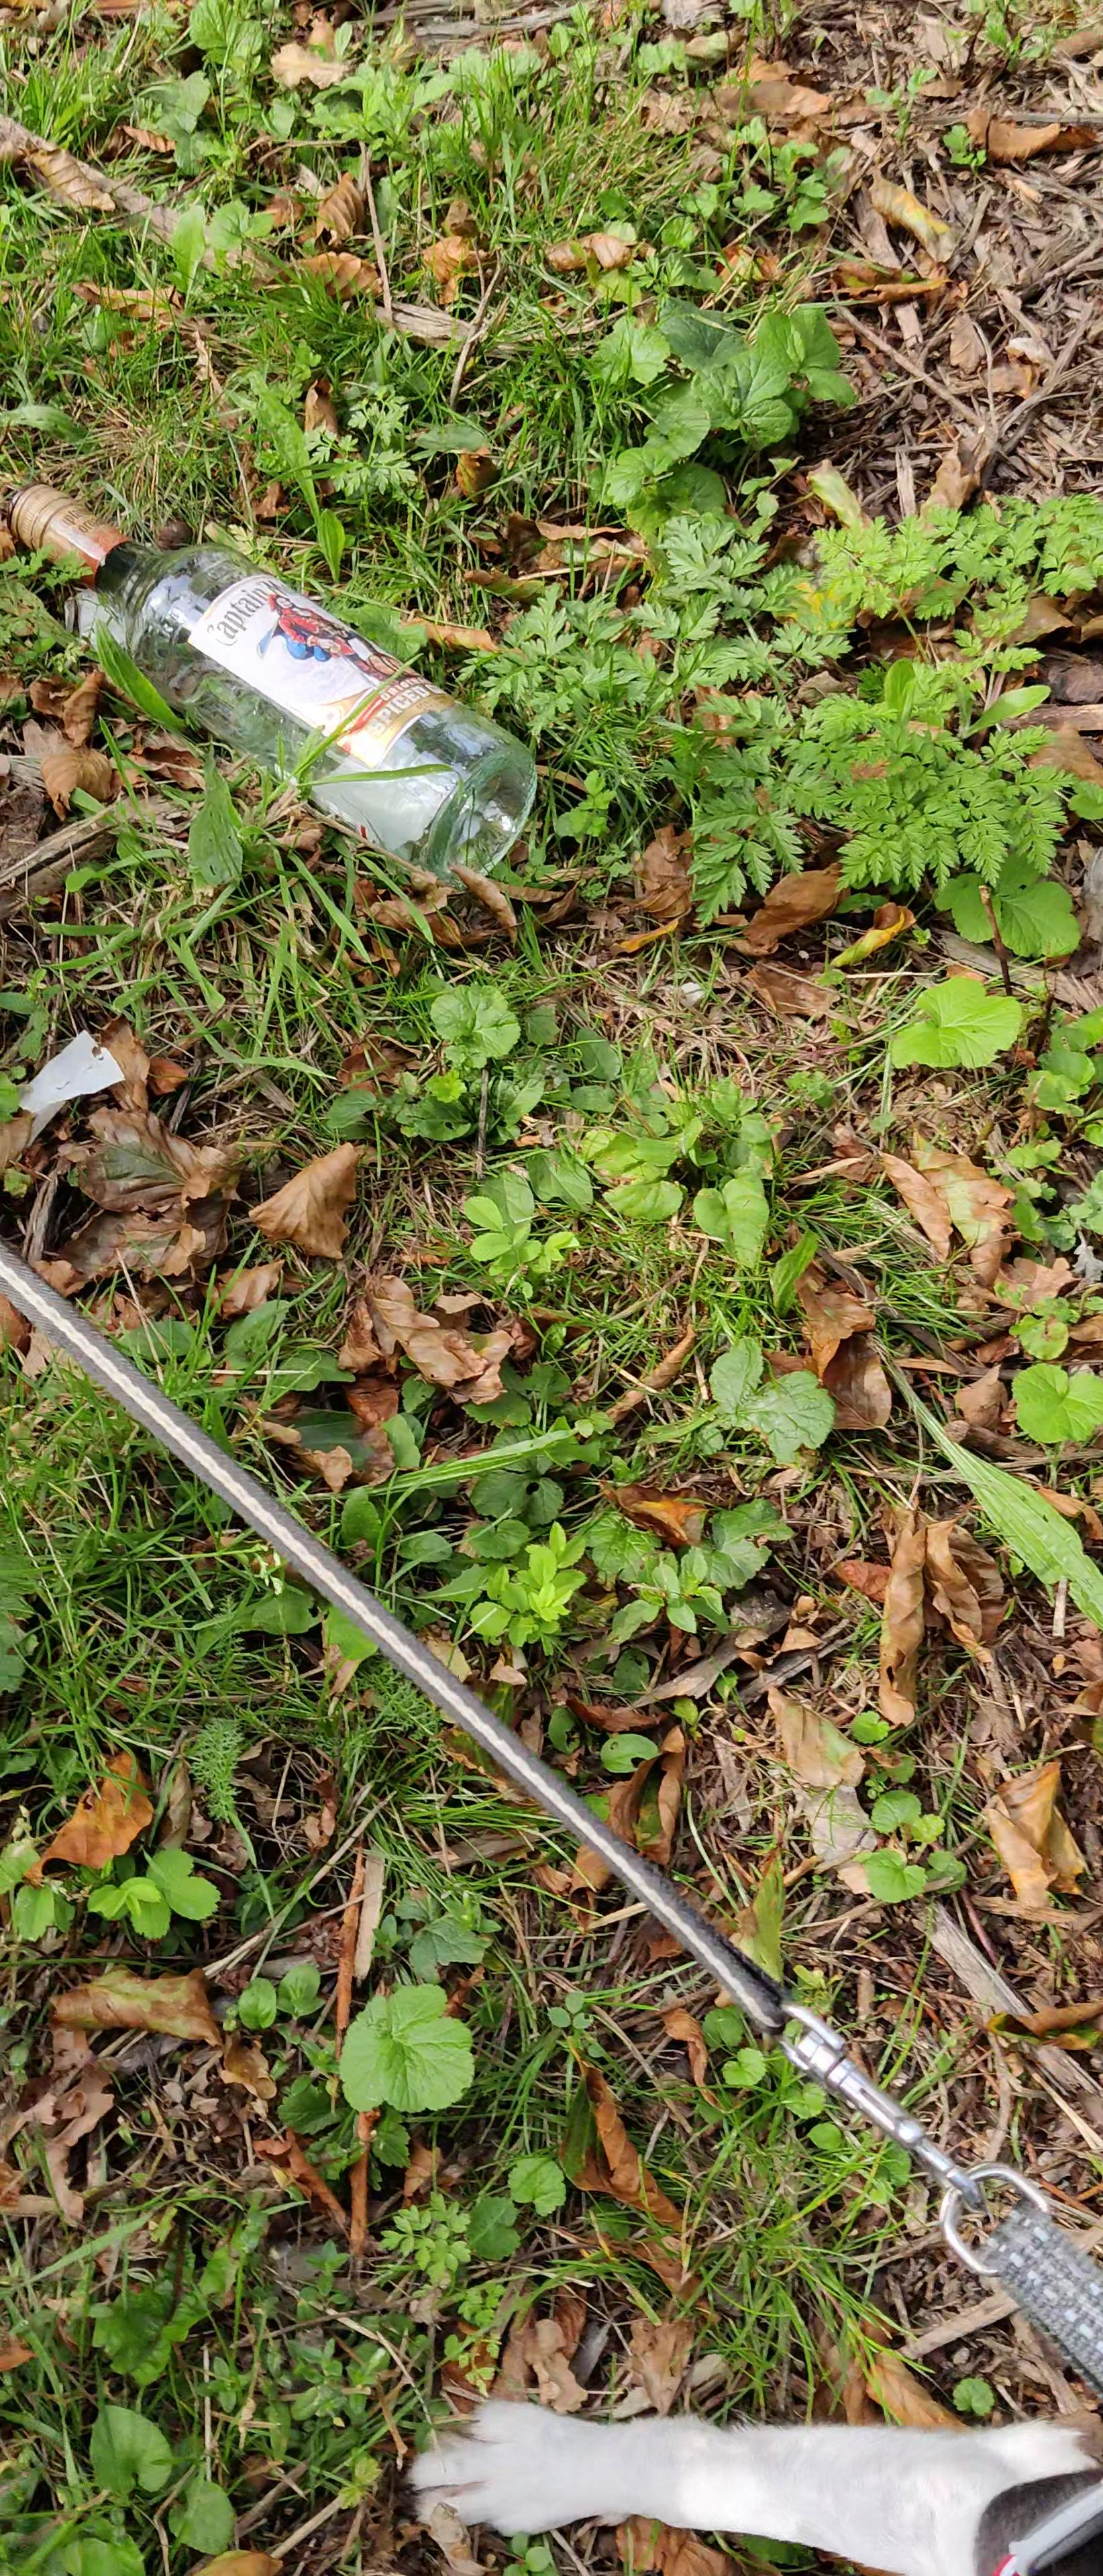Dog: (390, 2320, 1103, 2576)
